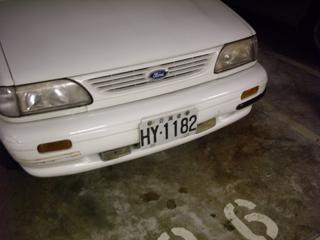plate: (135, 113, 199, 146)
